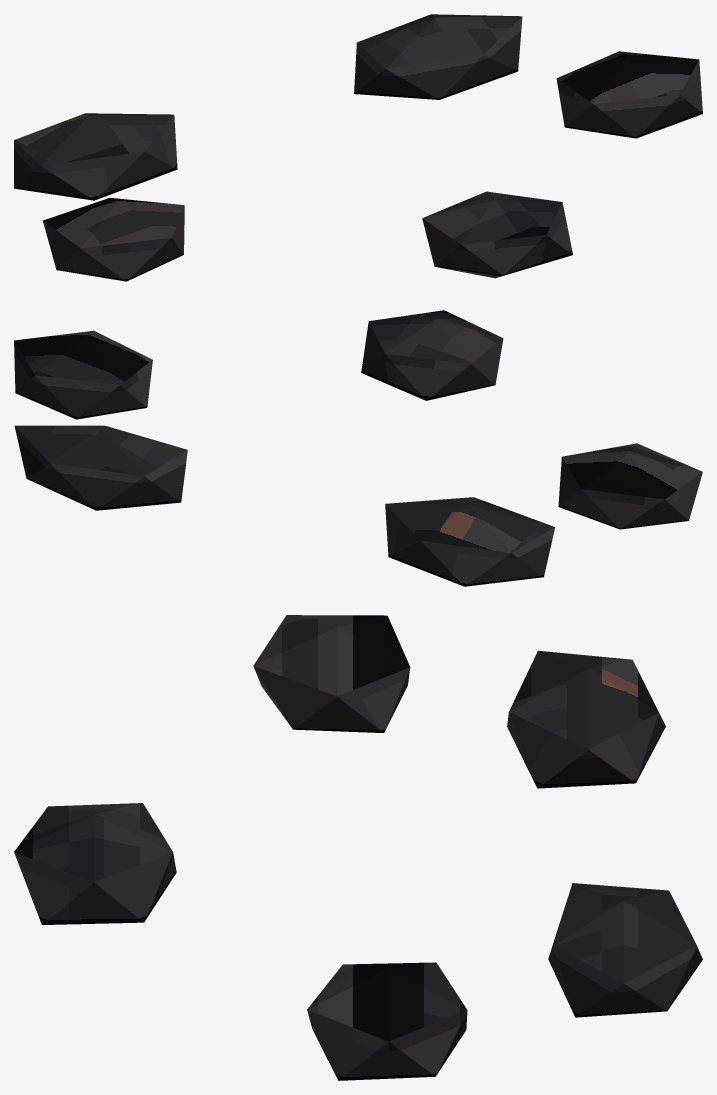
File: enfeite_seixos.fbx
3 views of the same model, one above another, from view 1: azimuth 30°, elevation 25°; view 2: azimuth 150°, elevation 25°; view 3: azimuth 270°, elevation 25° (orthographic). The views are drawn at different scales.
Visible parts, largest first — view 1: vulcao_enfeite_seixos; view 2: vulcao_enfeite_seixos; view 3: vulcao_enfeite_seixos.
Boxes of the visible parts, x1=… form: vulcao_enfeite_seixos: x1=14, y1=14, x2=702, y2=281; vulcao_enfeite_seixos: x1=14, y1=310, x2=702, y2=586; vulcao_enfeite_seixos: x1=14, y1=615, x2=702, y2=1080.
Bounding box in the file's own units: 44.73 × 5.23 × 30.27.
1 material, 1 textured.
